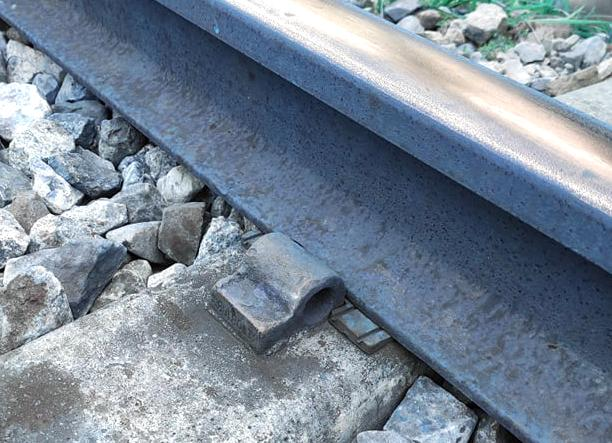loss: (211, 219, 361, 356)
